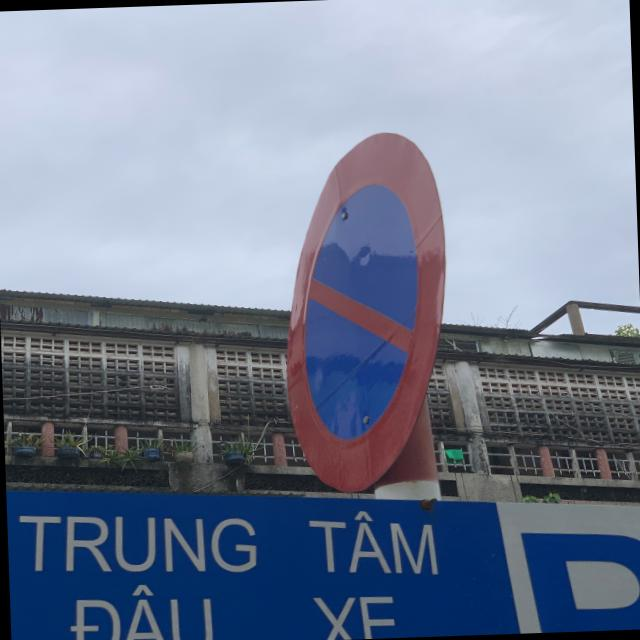Cam_Dau_Xe: (276, 132, 457, 490)
